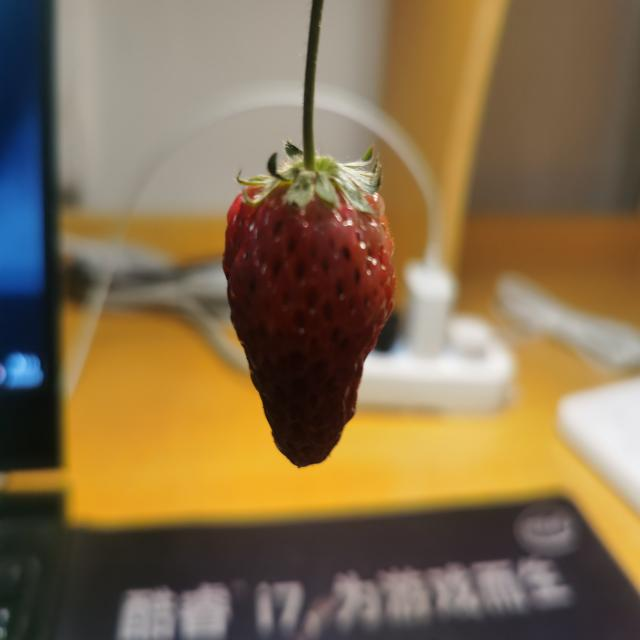stem: (302, 35, 319, 173)
strawberry: (222, 154, 397, 467)
